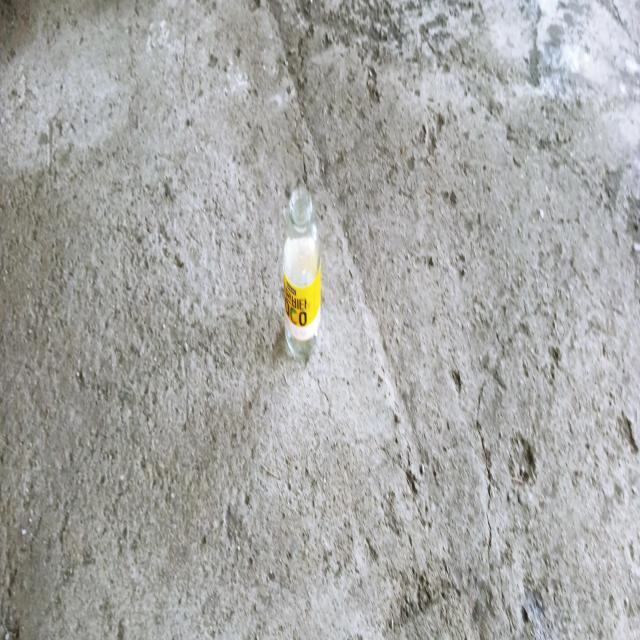glass: (283, 184, 321, 359)
